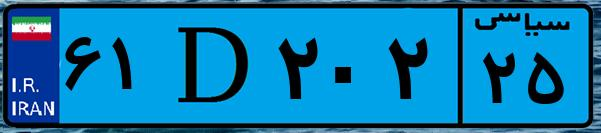0: (330, 28, 385, 110)
1: (110, 28, 158, 98)
2: (270, 28, 330, 110), (385, 28, 445, 110), (475, 38, 525, 113)
5: (525, 38, 570, 115)
6: (57, 26, 110, 100)
D: (158, 12, 270, 120)
